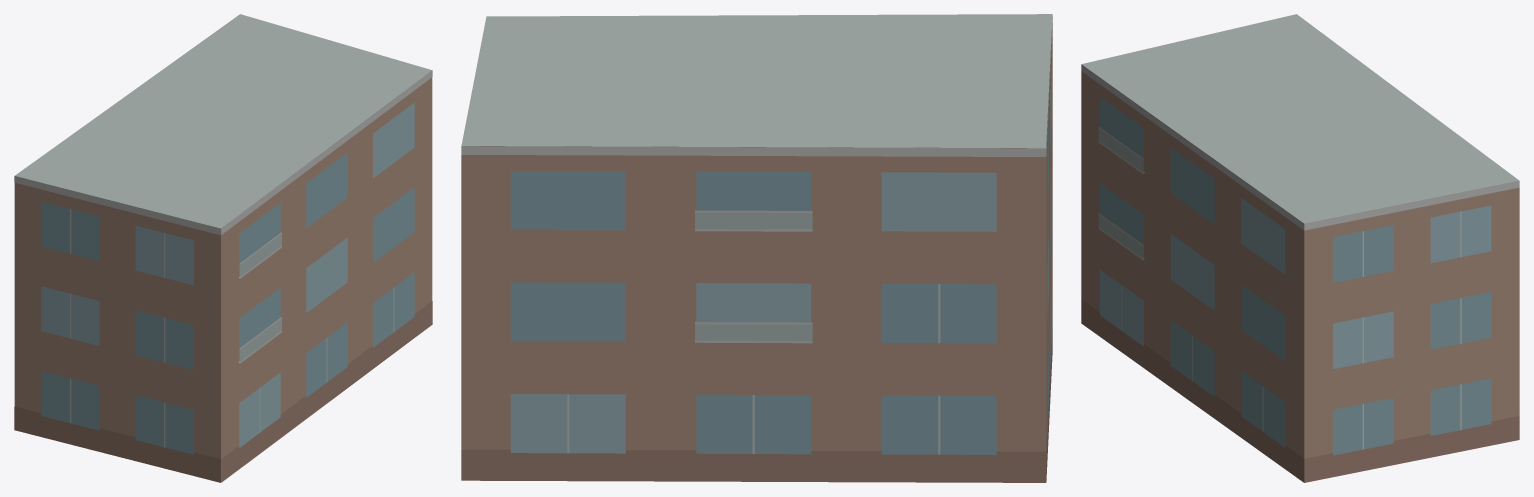
The model's file is survey-upis-32591327.glb.
The picture shows the model from 3 angles, left to right: view 1: azimuth 30°, elevation 25°; view 2: azimuth 150°, elevation 25°; view 3: azimuth 270°, elevation 25°; orthographic projection. The views are drawn at different scales.
Visible parts, largest first — view 1: survey-upis-32591327.tmp; view 2: survey-upis-32591327.tmp; view 3: survey-upis-32591327.tmp.
Boxes of the visible parts, box(x1,y1,x2,y2) form: survey-upis-32591327.tmp: box(14, 14, 432, 482); survey-upis-32591327.tmp: box(461, 14, 1052, 482); survey-upis-32591327.tmp: box(1081, 14, 1519, 482).
Bounding box in the file's own units: 15.89 × 9.15 × 14.03.
